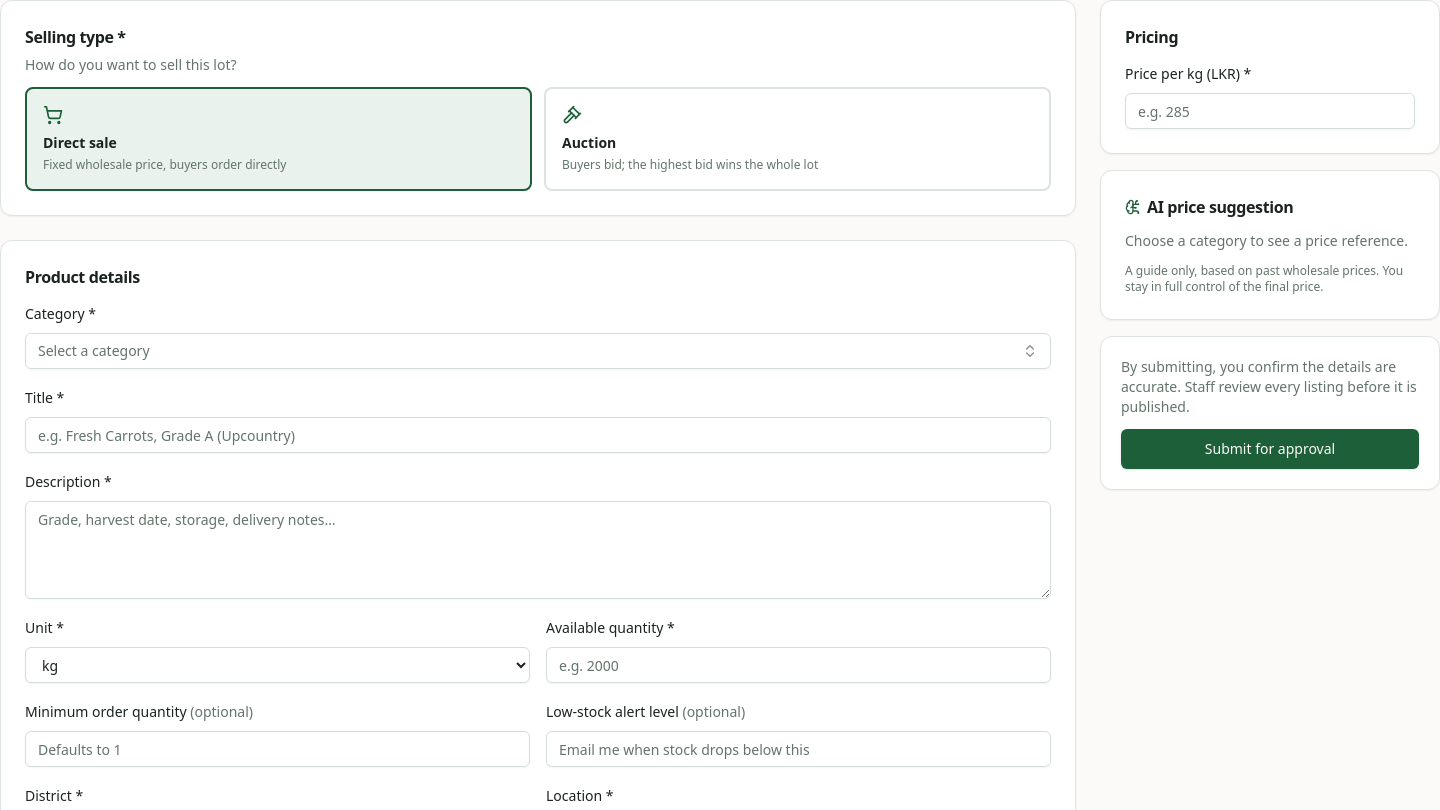
Scenario: ListingForm: creating › looks up the price suggestion when a category is chosen and can use it
Expected: the text "Choose a category to see a price reference." is shown, [1125,231,1415,251]
Click the dropdown labelled "Select a category": coordinates (94, 350) [25,333,1051,369]
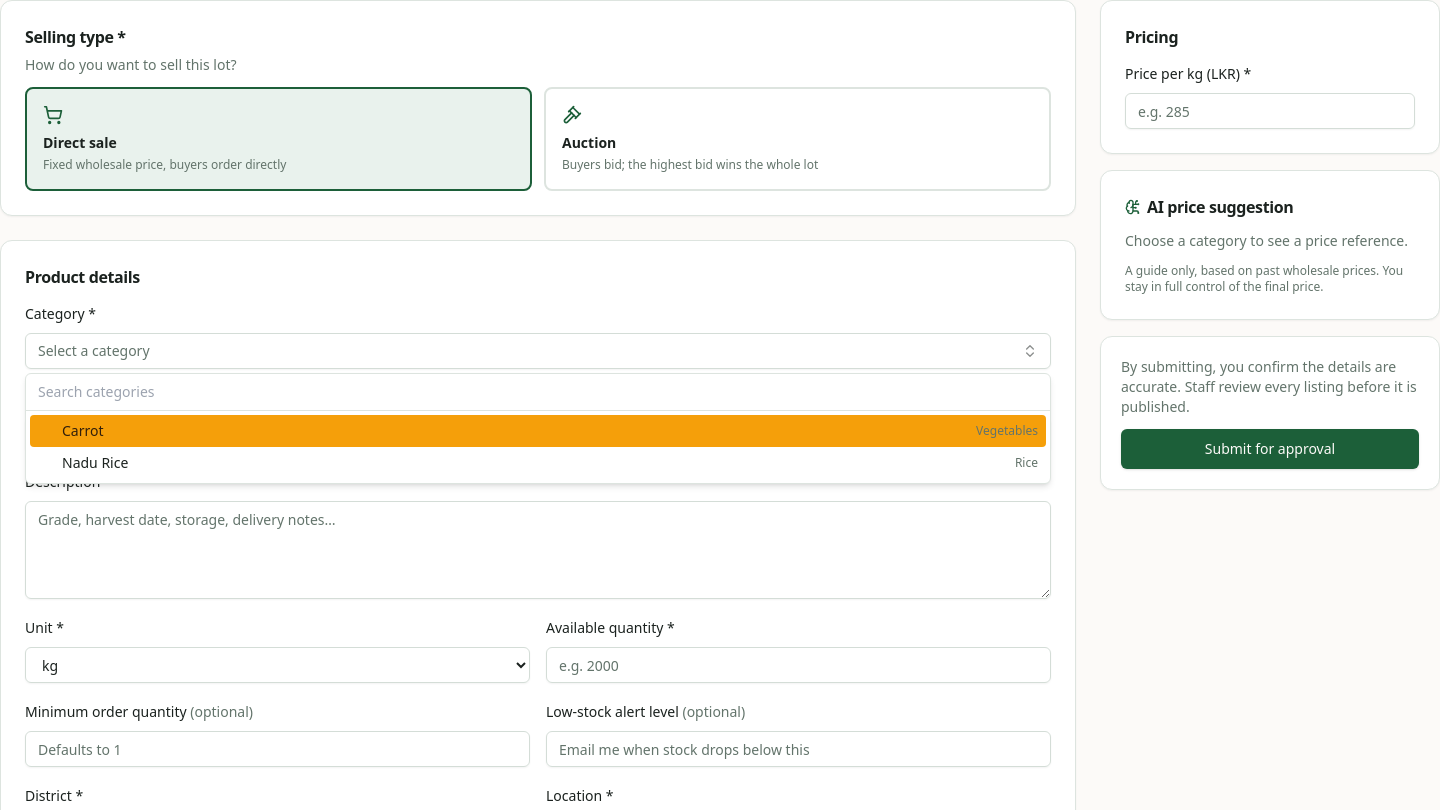
Click the option "Carrot Vegetables": coordinates (83, 430) [30,415,1046,447]
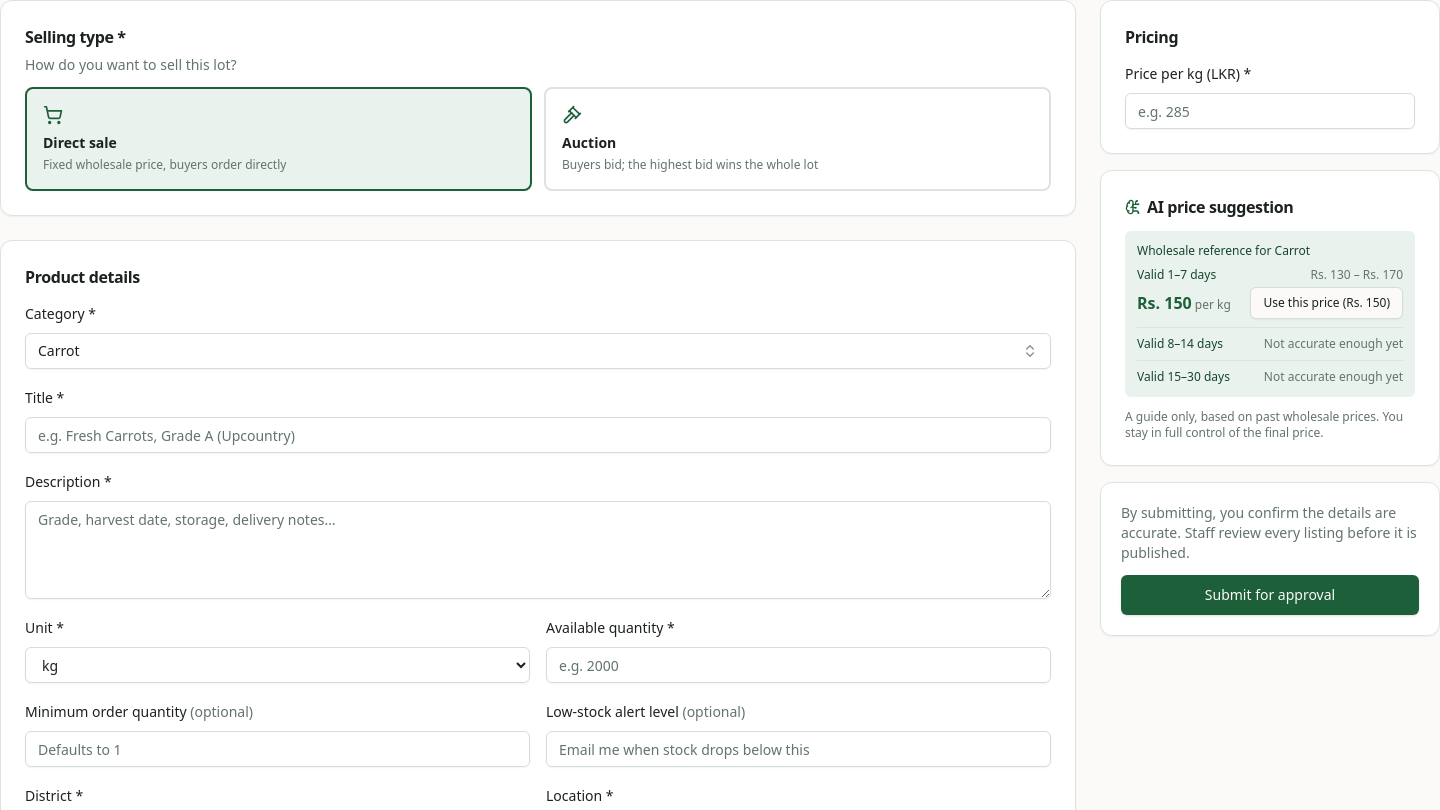
Click the button "Use this price (Rs. 150)": coordinates (1327, 303) [1250,287,1403,319]
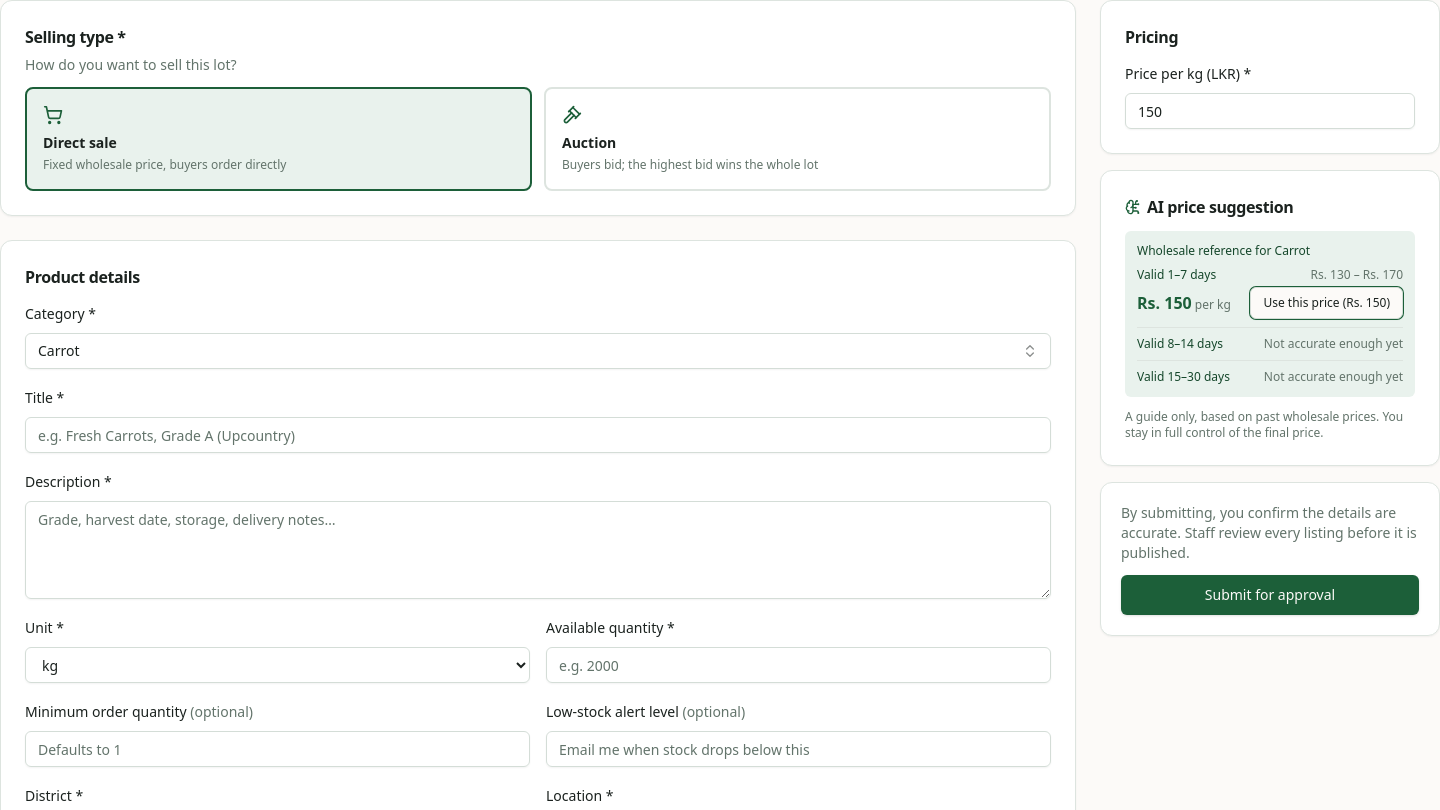
Now the number field labelled "Price per kg (LKR) *" holds "150", box [1125,93,1415,129]
